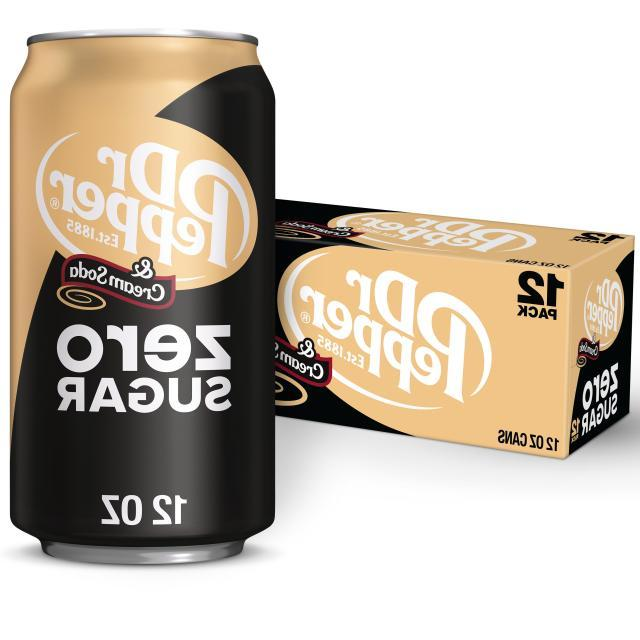can: (3, 21, 282, 582)
